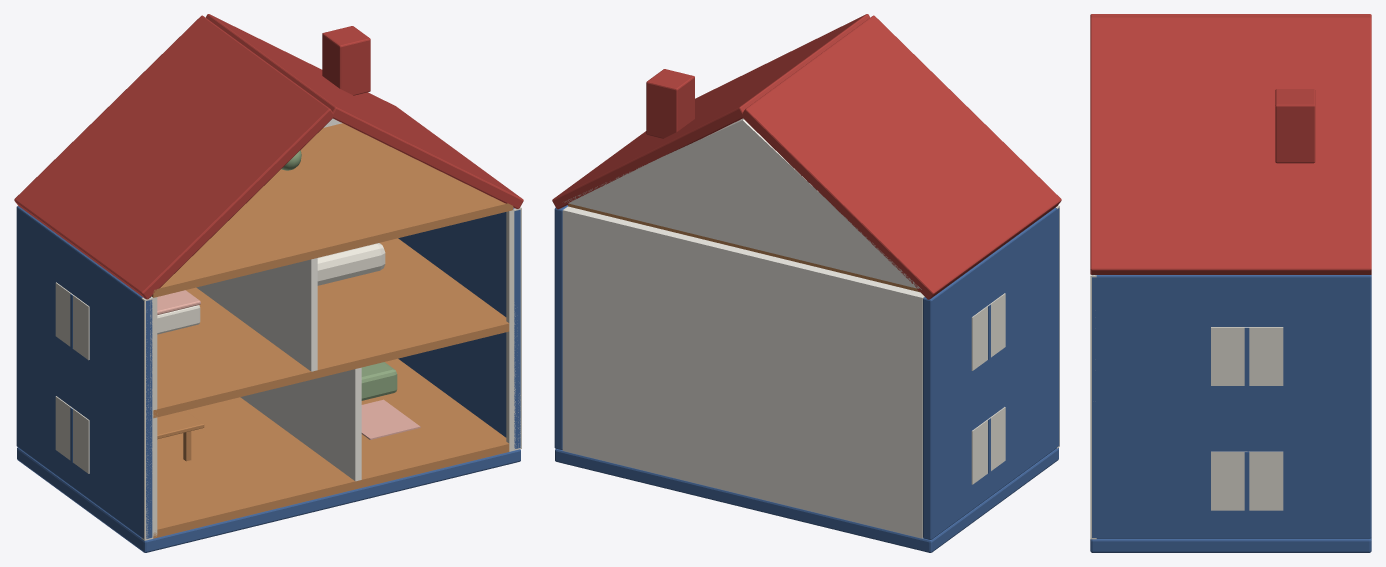
The model's file is hh_cat_dollhouse.glb.
The picture shows the model from 3 angles, left to right: view 1: azimuth 30°, elevation 25°; view 2: azimuth 150°, elevation 25°; view 3: azimuth 270°, elevation 25°; orthographic projection. The views are drawn at different scales.
Visible parts, largest first — view 1: roof, side_wall, floor.001, floor, floor.002, side_wall.001, roof.001, partition.001, partition, plinth, chimney, trim.001 (+9 smaller); view 2: back_wall, roof, side_wall, gable, roof.001, plinth, chimney, side_wall.001, window.001, window, floor.002; view 3: roof.001, side_wall.001, plinth, window.002, window.003, chimney, roof, trim.001, window_bar.003, window_bar.002.
Boxes of the visible parts, x1,y1,x2,y2 form: roof: (14, 15, 333, 299); side_wall: (16, 206, 152, 538); floor.001: (153, 238, 509, 418); floor: (153, 358, 509, 538); floor.002: (151, 123, 513, 297); side_wall.001: (398, 208, 520, 448); roof.001: (206, 14, 523, 208); partition.001: (196, 258, 317, 371); partition: (240, 367, 361, 481); plinth: (17, 447, 520, 552); chimney: (322, 26, 370, 95); trim.001: (506, 207, 521, 451); back_wall: (562, 206, 924, 538); roof: (742, 15, 1061, 299); side_wall: (923, 207, 1059, 539); gable: (564, 118, 921, 289); roof.001: (552, 14, 869, 209); plinth: (555, 448, 1058, 552); chimney: (646, 69, 694, 138); side_wall.001: (554, 205, 567, 449); window.001: (971, 293, 1005, 370); window: (971, 407, 1005, 484); floor.002: (568, 204, 919, 292); roof.001: (1090, 17, 1371, 274); side_wall.001: (1092, 275, 1371, 538); plinth: (1090, 538, 1371, 552); window.002: (1211, 451, 1283, 510); window.003: (1211, 327, 1283, 385); chimney: (1275, 89, 1315, 163); roof: (1090, 14, 1371, 17); trim.001: (1090, 274, 1096, 539); window_bar.003: (1244, 327, 1249, 386); window_bar.002: (1244, 451, 1249, 510).
Size of the model in its own units: 0.6 by 0.6 by 0.35.
